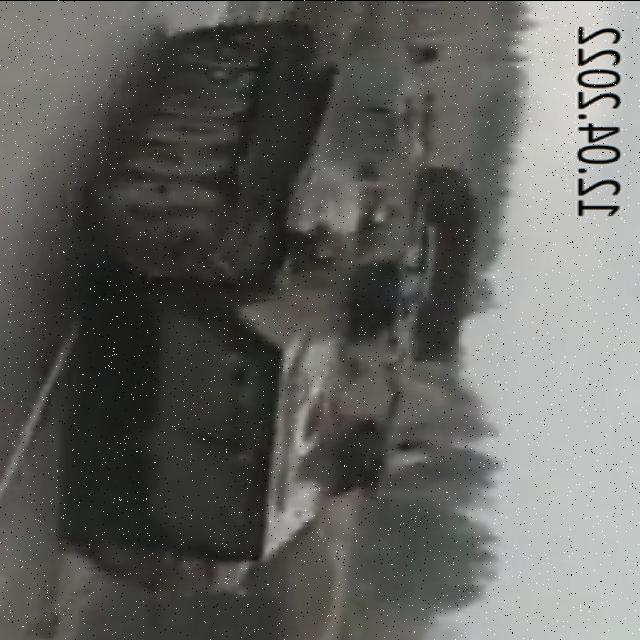APC-IFV: (56, 19, 480, 611)
